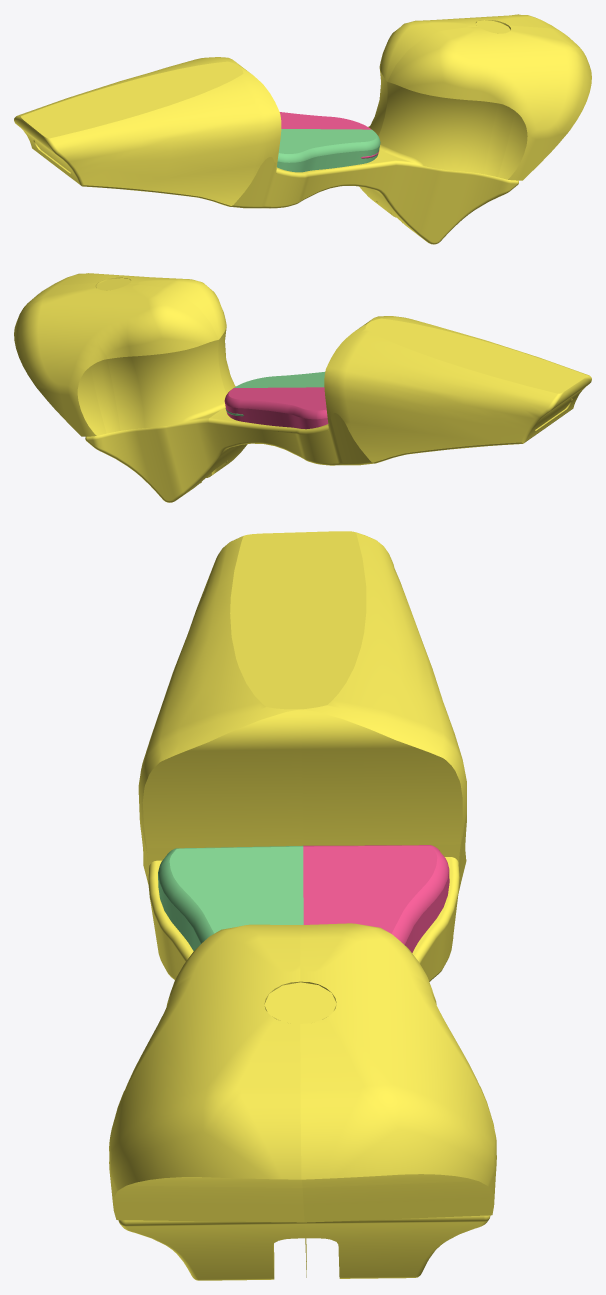
Rendered from seat_tail.glb.
3 views of the same model, one above another, from view 1: azimuth 30°, elevation 25°; view 2: azimuth 150°, elevation 25°; view 3: azimuth 270°, elevation 25° (orthographic). The views are drawn at different scales.
Parts seen in each view (by area): view 1: User Library-racing bike_racing bike.sldasm-Part-3-1, User Library-racing bike_racing bike.sldasm-Part-22-1, User Library-racing bike_racing bike.sldasm-Part-21-1; view 2: User Library-racing bike_racing bike.sldasm-Part-3-1, User Library-racing bike_racing bike.sldasm-Part-21-1, User Library-racing bike_racing bike.sldasm-Part-22-1; view 3: User Library-racing bike_racing bike.sldasm-Part-3-1, User Library-racing bike_racing bike.sldasm-Part-21-1, User Library-racing bike_racing bike.sldasm-Part-22-1.
Part boxes in pixels (x1,y1,x2,y2): User Library-racing bike_racing bike.sldasm-Part-3-1: (14,14,591,244); User Library-racing bike_racing bike.sldasm-Part-22-1: (277,129,380,172); User Library-racing bike_racing bike.sldasm-Part-21-1: (279,112,379,158); User Library-racing bike_racing bike.sldasm-Part-3-1: (14,273,591,502); User Library-racing bike_racing bike.sldasm-Part-21-1: (224,387,328,429); User Library-racing bike_racing bike.sldasm-Part-22-1: (225,372,325,416); User Library-racing bike_racing bike.sldasm-Part-3-1: (109,531,496,1280); User Library-racing bike_racing bike.sldasm-Part-21-1: (303,845,449,952); User Library-racing bike_racing bike.sldasm-Part-22-1: (158,845,303,950).
Size of the model in its own units: 0.0871 by 0.0308 by 0.0268.
